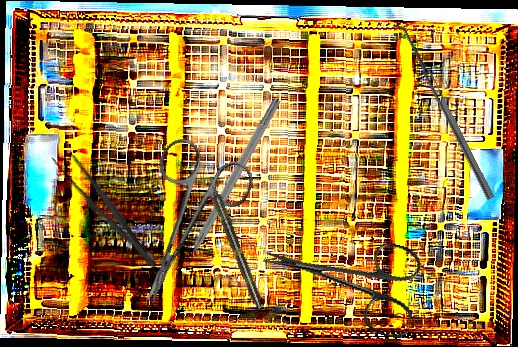Dressing Forceps: (47, 145, 166, 275)
Handpiece: (204, 176, 266, 311)
Hook Surgical: (176, 96, 282, 274)
Iris Scissors: (103, 132, 259, 321), (252, 214, 428, 341)
Spatula Surgical: (390, 19, 495, 204)
